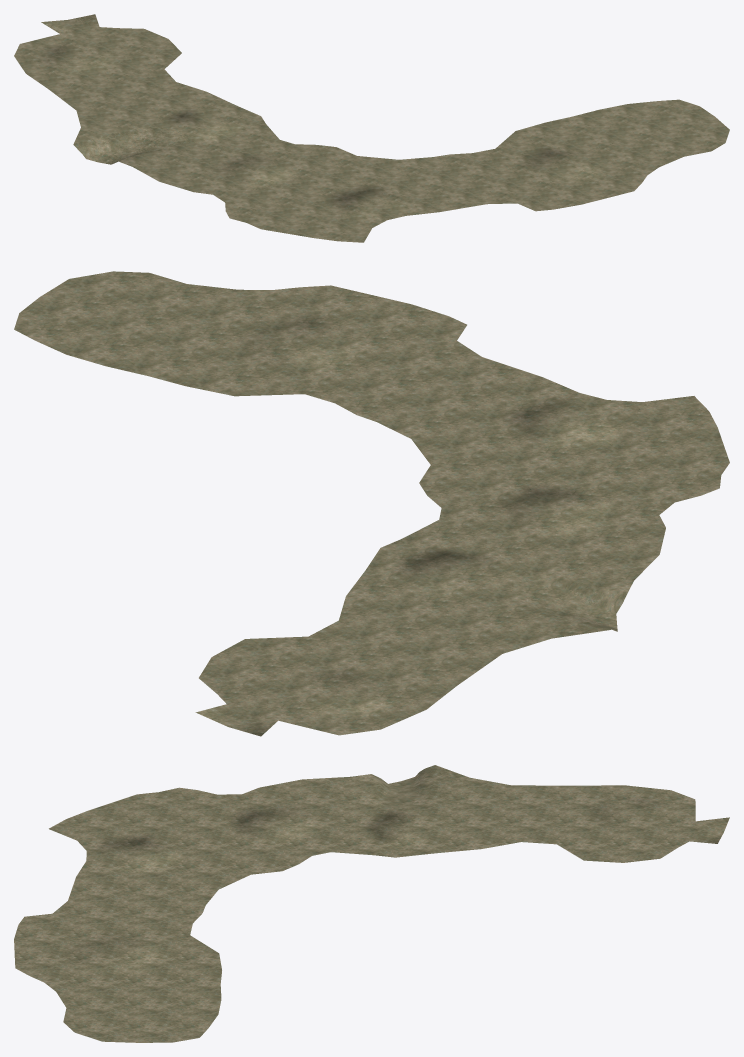
File: EKH_JAIL_PS_JA_MAIN_JAIL_FLOOR93938.fbx
The picture shows the model from 3 angles, top to bottom: view 1: azimuth 30°, elevation 25°; view 2: azimuth 150°, elevation 25°; view 3: azimuth 270°, elevation 25°; orthographic projection. The views are drawn at different scales.
Parts seen in each view (by area): view 1: EKH_JAIL_PS_JA_MAIN_JAIL_FLOOR93938; view 2: EKH_JAIL_PS_JA_MAIN_JAIL_FLOOR93938; view 3: EKH_JAIL_PS_JA_MAIN_JAIL_FLOOR93938.
Boxes of the visible parts, <box> form: EKH_JAIL_PS_JA_MAIN_JAIL_FLOOR93938: <box>14,14,729,242</box>; EKH_JAIL_PS_JA_MAIN_JAIL_FLOOR93938: <box>14,271,729,736</box>; EKH_JAIL_PS_JA_MAIN_JAIL_FLOOR93938: <box>14,765,729,1042</box>.
Bounding box in the file's own units: 243805 × 5050 × 265380.
Materials: 1 (1 with a texture image).
